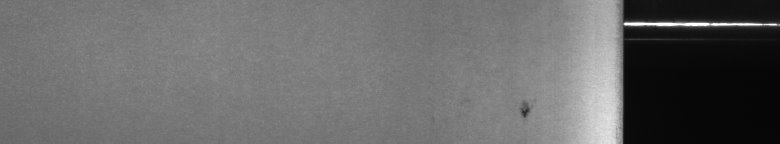fi: (516, 96, 536, 124)
